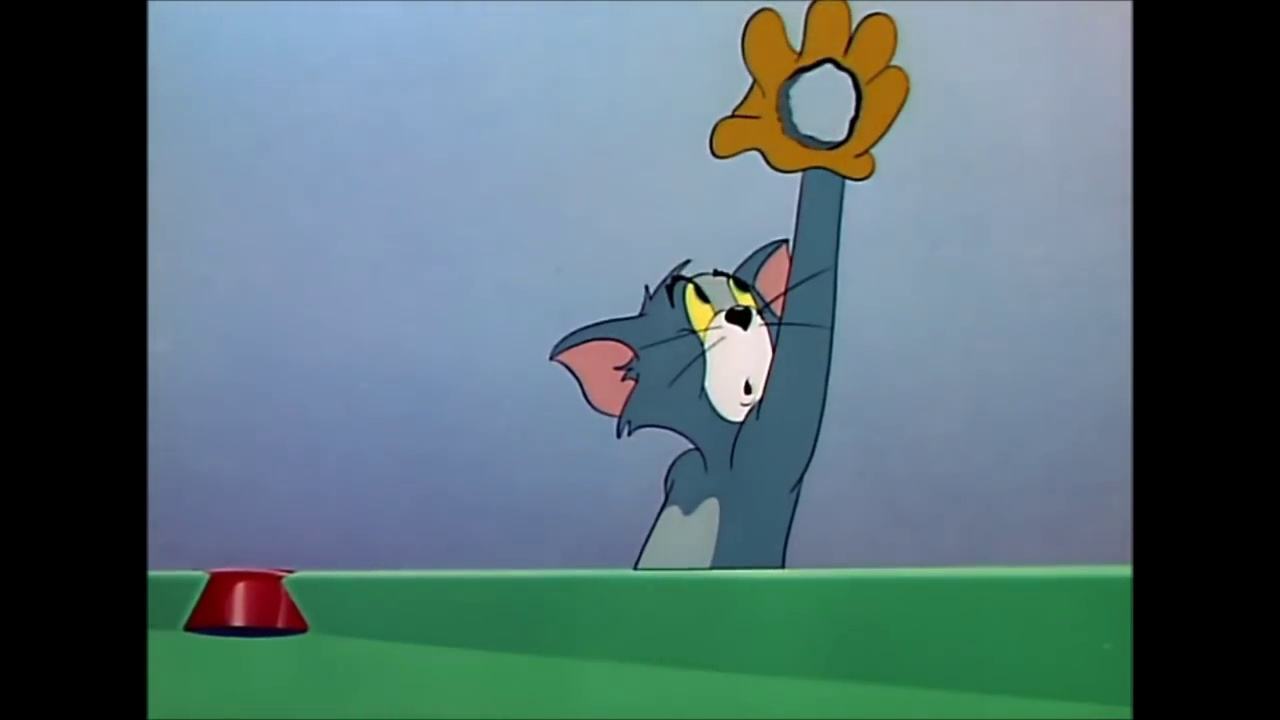surprised: (665, 270, 764, 424)
